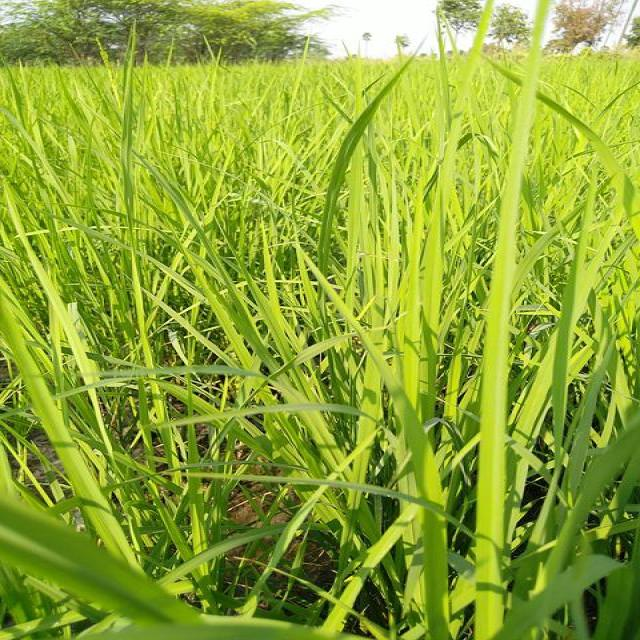Rice: (474, 30, 533, 640), (0, 283, 81, 446), (404, 381, 453, 640), (60, 443, 148, 574), (553, 200, 597, 456), (339, 358, 386, 580), (401, 168, 445, 388), (529, 553, 640, 640), (118, 76, 151, 362), (158, 397, 348, 426), (344, 140, 371, 281), (83, 365, 273, 384)
